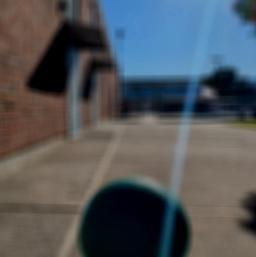algae: (77, 174, 192, 257)
